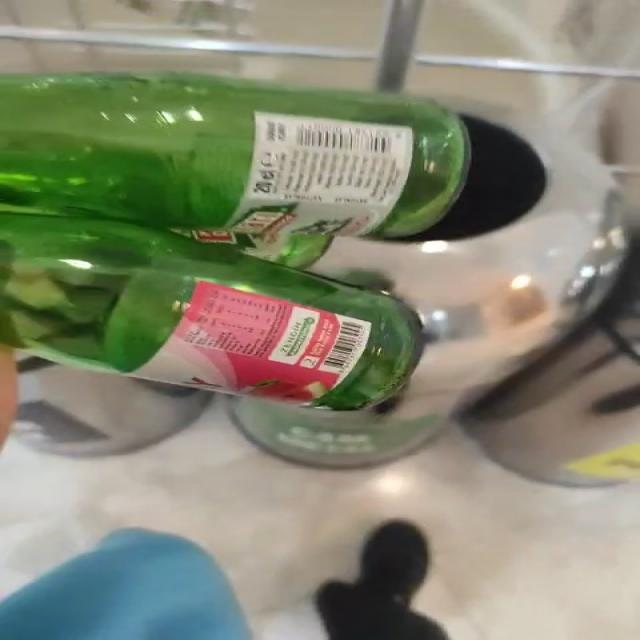glass: (3, 72, 469, 411)
